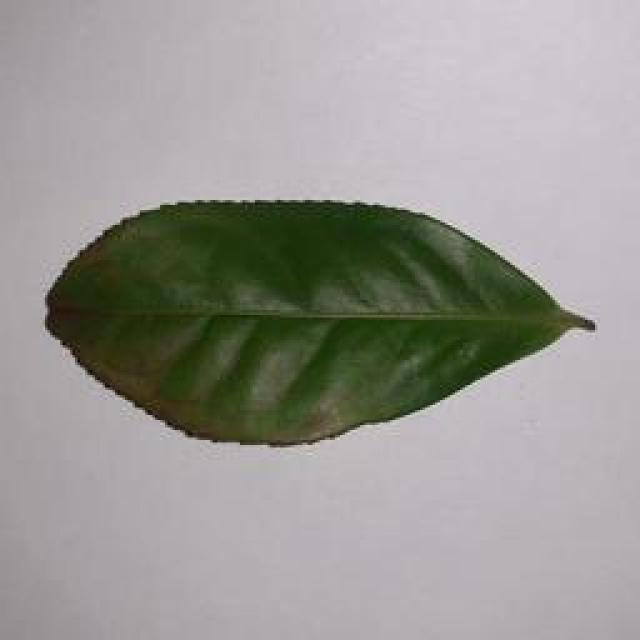Red Leaf Spot: (14, 191, 640, 454)
